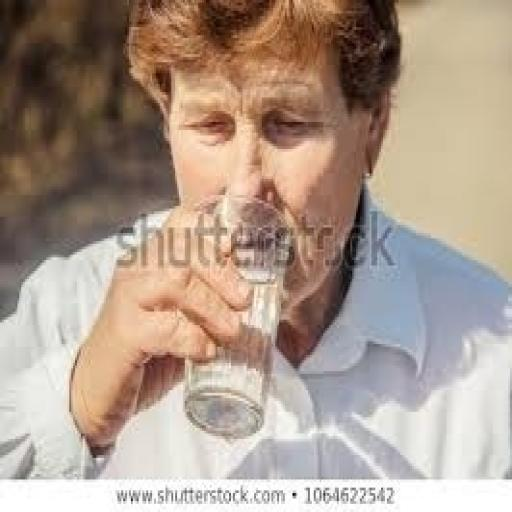drinking: (181, 192, 293, 439)
